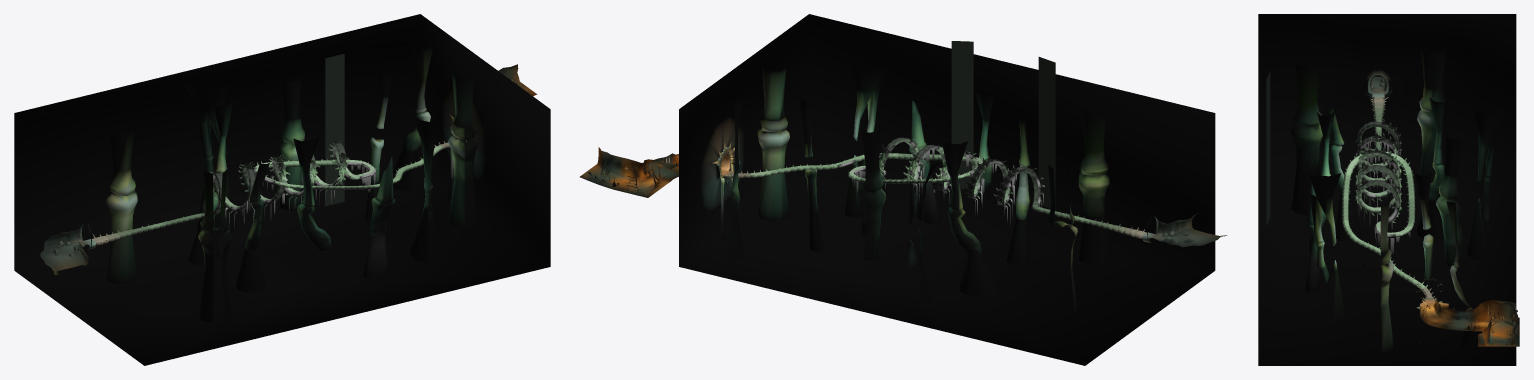
Rendered from 05CavernB.gltf.
The picture shows the model from 3 angles, left to right: view 1: azimuth 30°, elevation 25°; view 2: azimuth 150°, elevation 25°; view 3: azimuth 270°, elevation 25°; orthographic projection.
Parts seen in each view (by area): view 1: stg040_o12_Mesh_0000, stg040_o12_Mesh_0001, stg040_p12_Mesh_0000, stg040_o11_Mesh_0000, stg040_o12_Mesh_0004, stg040_k12_Mesh_0000, stg040_o12_Mesh_0010, stg040_o12_Mesh_0003, stg040_a12_Mesh_0000, stg040_o11_Mesh_0002, stg040_o12_Mesh_0006; view 2: stg040_o12_Mesh_0000, stg040_o12_Mesh_0001, stg040_p12_Mesh_0000, stg040_o11_Mesh_0000, stg040_o12_Mesh_0004, stg040_o11_Mesh_0002, stg040_k12_Mesh_0000, stg040_o12_Mesh_0010, stg040_o12_Mesh_0006, stg040_o12_Mesh_0003, stg040_a12_Mesh_0000; view 3: stg040_o12_Mesh_0000, stg040_o12_Mesh_0001, stg040_o12_Mesh_0004, stg040_o11_Mesh_0000, stg040_o11_Mesh_0002, stg040_o12_Mesh_0010, stg040_k12_Mesh_0000, stg040_o12_Mesh_0006, stg040_p12_Mesh_0000, stg040_o12_Mesh_0003, stg040_a12_Mesh_0000, stg040_a12_Mesh_0001.
Boxes of the visible parts, <box> form: stg040_o12_Mesh_0000: <box>14,14,550,365</box>; stg040_o12_Mesh_0001: <box>106,41,477,323</box>; stg040_p12_Mesh_0000: <box>325,53,344,206</box>; stg040_o11_Mesh_0000: <box>40,64,520,270</box>; stg040_o12_Mesh_0004: <box>92,141,449,245</box>; stg040_k12_Mesh_0000: <box>213,144,397,231</box>; stg040_o12_Mesh_0010: <box>92,142,448,241</box>; stg040_o12_Mesh_0003: <box>201,154,385,248</box>; stg040_a12_Mesh_0000: <box>200,141,385,250</box>; stg040_o11_Mesh_0002: <box>42,82,537,271</box>; stg040_o12_Mesh_0006: <box>210,140,350,213</box>; stg040_o12_Mesh_0000: <box>679,14,1215,365</box>; stg040_o12_Mesh_0001: <box>712,61,1109,315</box>; stg040_p12_Mesh_0000: <box>951,41,1055,210</box>; stg040_o11_Mesh_0000: <box>587,116,1219,243</box>; stg040_o12_Mesh_0004: <box>731,137,1144,239</box>; stg040_o11_Mesh_0002: <box>580,164,1220,247</box>; stg040_k12_Mesh_0000: <box>837,139,1043,227</box>; stg040_o12_Mesh_0010: <box>732,142,1146,234</box>; stg040_o12_Mesh_0006: <box>879,138,1044,208</box>; stg040_o12_Mesh_0003: <box>861,145,1107,250</box>; stg040_a12_Mesh_0000: <box>861,154,1108,255</box>; stg040_o12_Mesh_0000: <box>1258,14,1516,365</box>; stg040_o12_Mesh_0001: <box>1291,48,1504,361</box>; stg040_o12_Mesh_0004: <box>1342,97,1434,298</box>; stg040_o11_Mesh_0000: <box>1364,69,1518,345</box>; stg040_o11_Mesh_0002: <box>1371,76,1519,346</box>; stg040_o12_Mesh_0010: <box>1344,96,1431,298</box>; stg040_k12_Mesh_0000: <box>1355,124,1410,254</box>; stg040_o12_Mesh_0006: <box>1355,118,1401,224</box>; stg040_p12_Mesh_0000: <box>1266,71,1270,225</box>; stg040_o12_Mesh_0003: <box>1293,119,1463,249</box>; stg040_a12_Mesh_0000: <box>1293,118,1463,252</box>; stg040_a12_Mesh_0001: <box>1422,298,1513,346</box>.
Bounding box in the file's own units: 370 × 111 × 152.
